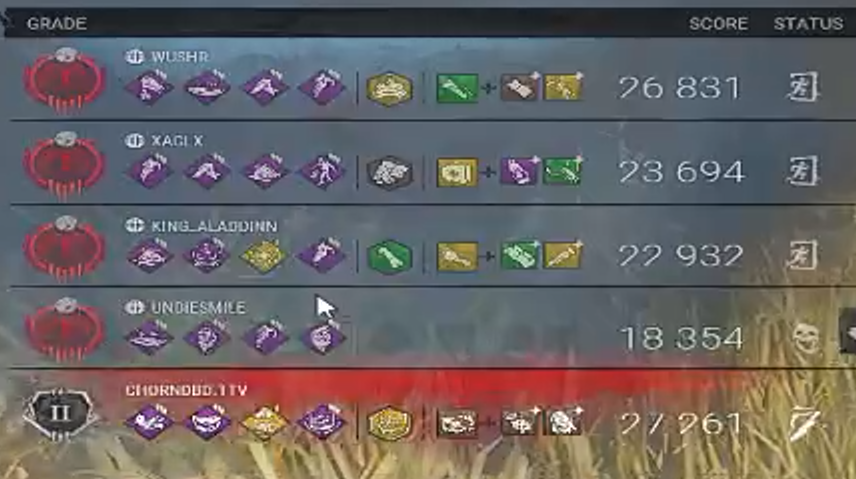agitation: (181, 405, 230, 441)
bamboozle: (296, 404, 345, 440)
boon:exponential: (181, 237, 230, 273)
borrowed_time: (124, 70, 173, 106)
brutal_strength: (125, 405, 174, 441)
circle_of_healing: (238, 238, 287, 274)
dead_hard: (296, 69, 345, 105), (123, 153, 172, 189), (297, 238, 346, 274), (239, 318, 288, 354)
deadlock: (241, 405, 290, 441)
decisive_strike: (239, 69, 288, 105), (181, 153, 230, 189)
iron_will: (239, 153, 288, 189), (124, 238, 173, 274)
soul_guard: (181, 319, 230, 355)
unbreakable: (297, 321, 346, 357)
were_gonna_live_forever: (296, 153, 345, 189)
windows_of_opportunity: (181, 70, 230, 106), (122, 320, 171, 356)
